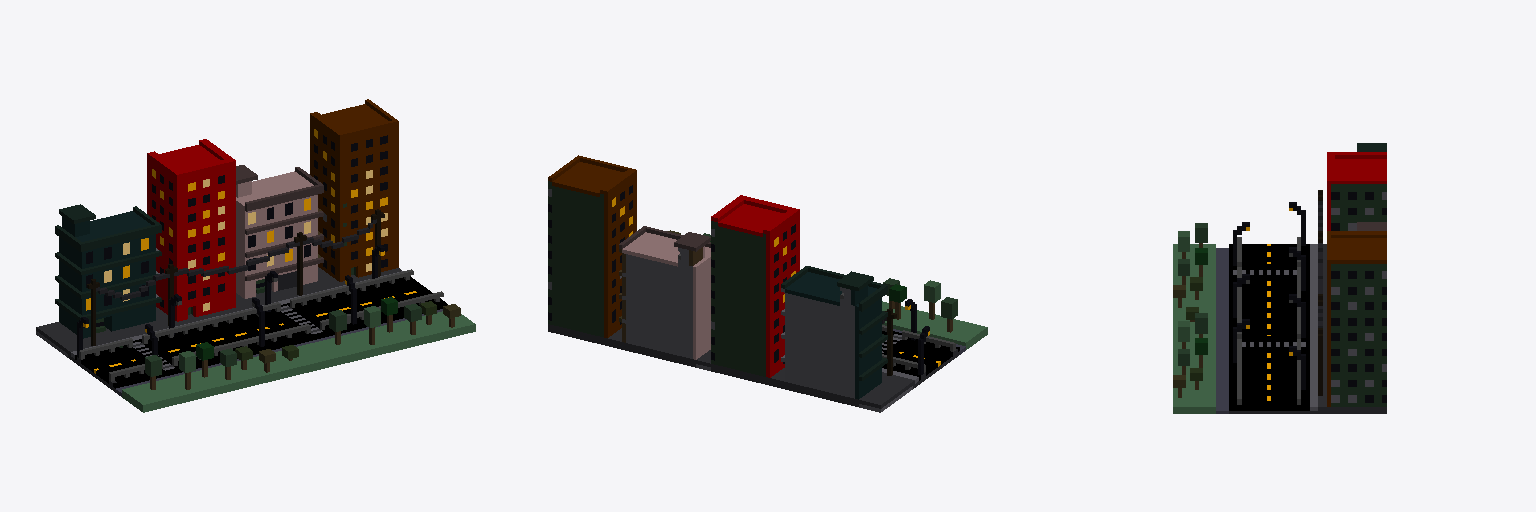
3 views of the same model, side by side, from view 1: azimuth 30°, elevation 25°; view 2: azimuth 150°, elevation 25°; view 3: azimuth 270°, elevation 25° (orthographic).
Visible parts, largest first — view 1: object 1; view 2: object 1; view 3: object 1.
Boxes of the visible parts, <box> form: object 1: <box>36,99,475,412</box>; object 1: <box>548,155,987,412</box>; object 1: <box>1173,143,1386,413</box>.
Bounding box in the file's own units: 9 × 4 × 5.
Materials: 1 (1 with a texture image).